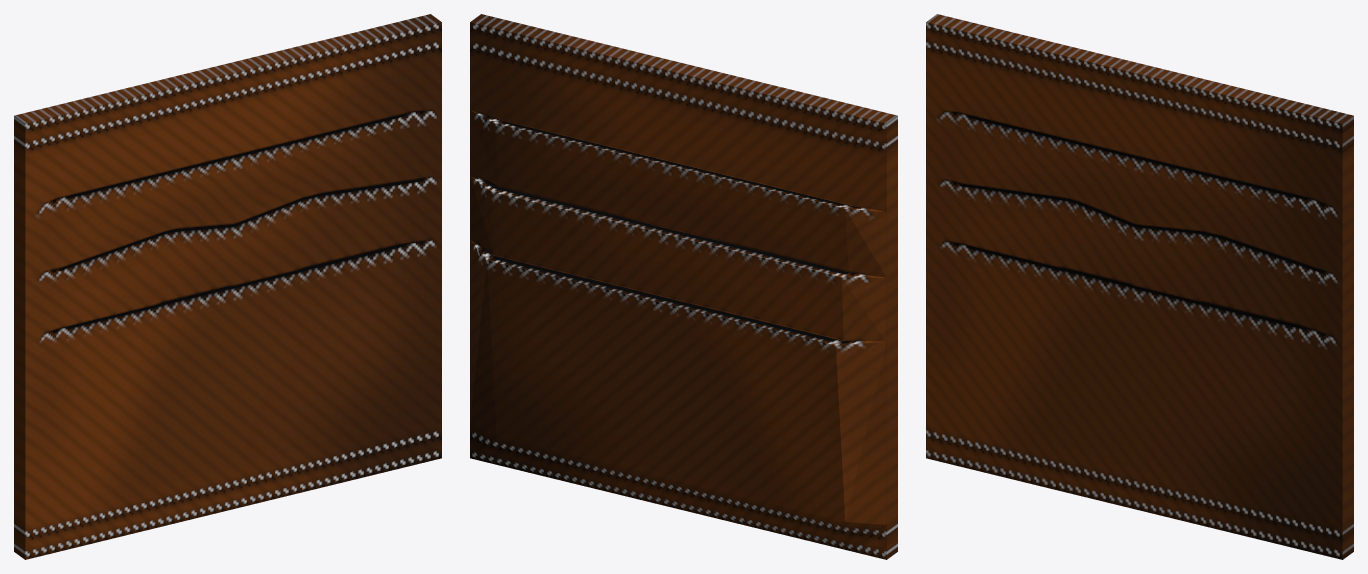
The model's file is CardHolder.obj.
3 renders of one model, left to right at view 1: azimuth 30°, elevation 25°; view 2: azimuth 150°, elevation 25°; view 3: azimuth 330°, elevation 25°, orthographic.
Bounding box in the file's own units: 2 × 2 × 0.2308.
